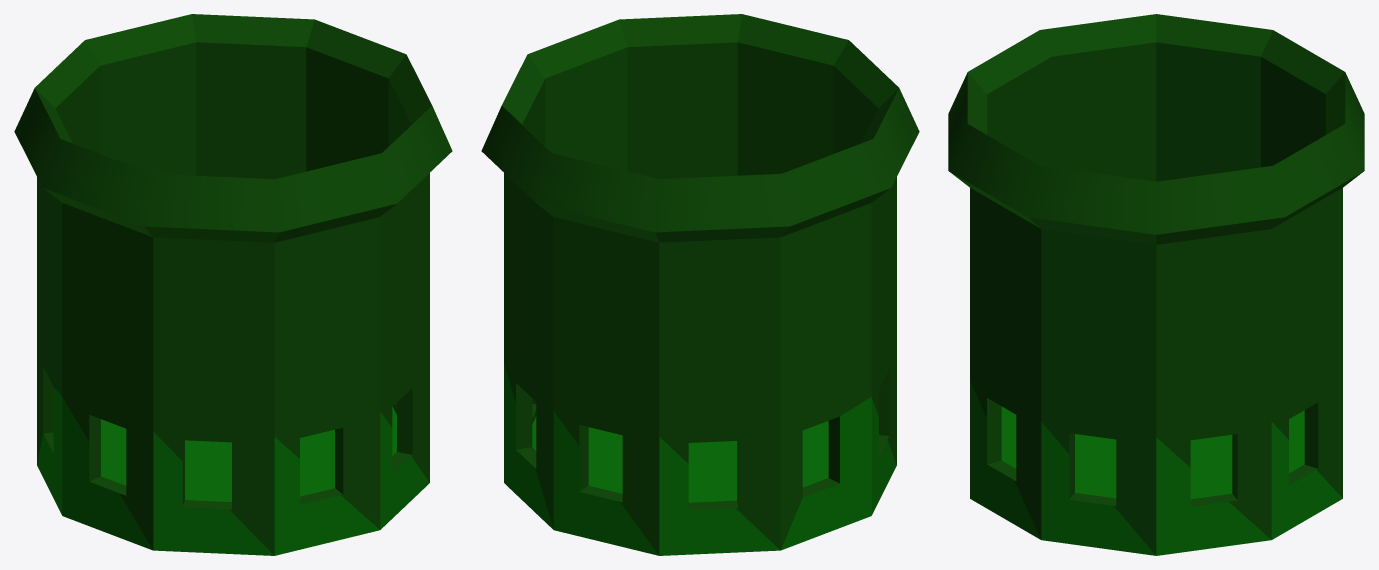
The model's file is PotPlant.fbx.
3 renders of one model, left to right at view 1: azimuth 30°, elevation 25°; view 2: azimuth 150°, elevation 25°; view 3: azimuth 270°, elevation 25°, orthographic.
Visible parts, largest first — view 1: pCylinder3; view 2: pCylinder3; view 3: pCylinder3.
Part boxes in pixels (<box>): pCylinder3: <box>14,14,452,555</box>; pCylinder3: <box>481,14,919,555</box>; pCylinder3: <box>948,14,1364,555</box>.
Bounding box in the file's own units: 19.38 × 18.33 × 18.44.
